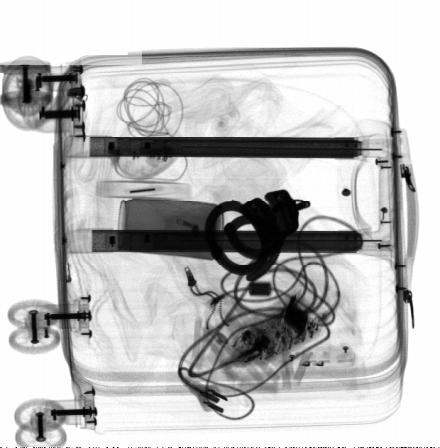HandCuffs: (204, 190, 313, 286)
